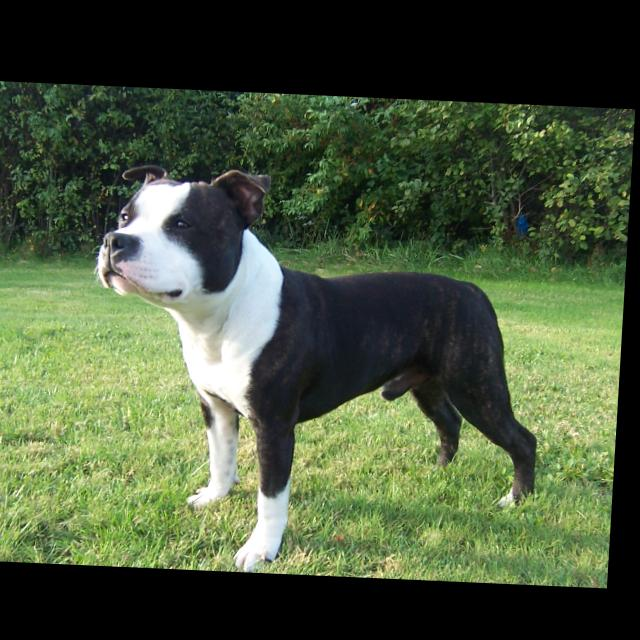amstaff: (85, 161, 557, 581)
